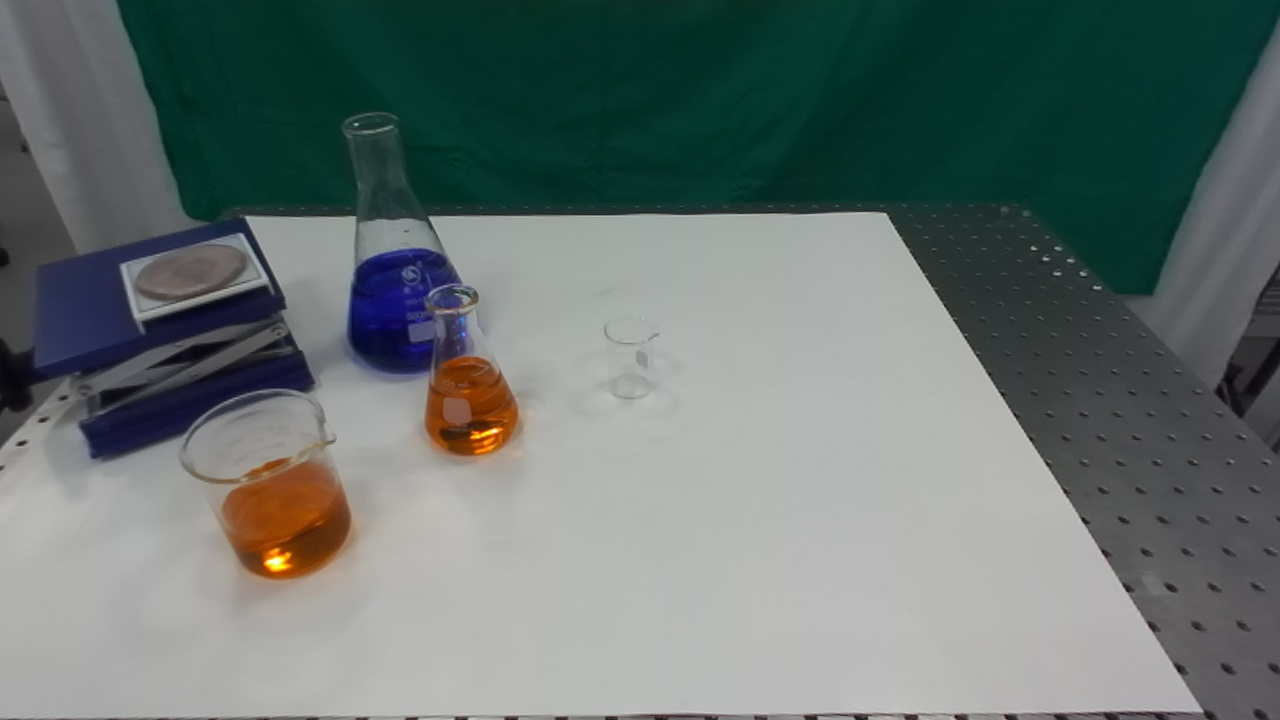glass: (337, 106, 481, 382), (174, 382, 358, 586), (424, 281, 524, 462), (600, 309, 662, 405)
plate: (112, 228, 281, 337)
